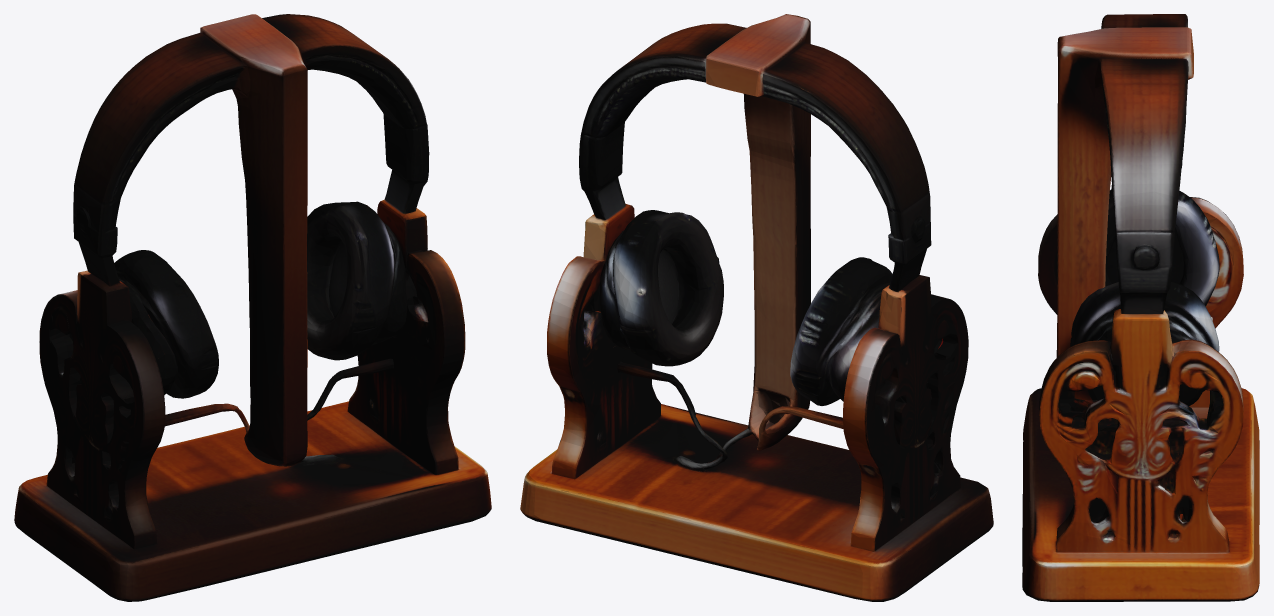
The model's file is wooden-headphone-stand-vintage.jpeg.glb.
3 views of the same model, side by side, from view 1: azimuth 30°, elevation 25°; view 2: azimuth 150°, elevation 25°; view 3: azimuth 270°, elevation 25° (orthographic).
Visible parts, largest first — view 1: world; view 2: world; view 3: world.
Part boxes in pixels (x1=…): world: x1=14, y1=14, x2=491, y2=601; world: x1=520, y1=14, x2=993, y2=601; world: x1=1022, y1=14, x2=1259, y2=601.
Bounding box in the file's own units: 0.8259 × 0.9998 × 0.4536.
Materials: 1 (1 with a texture image).
